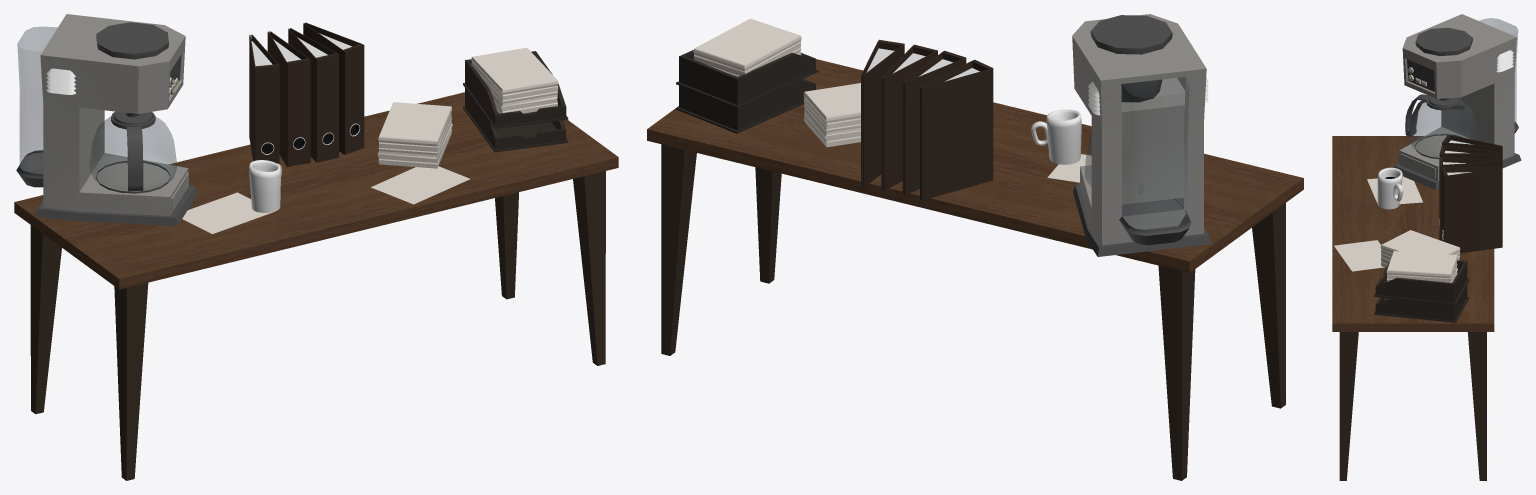
Rendered from coffeeDesk.glb.
3 renders of one model, left to right at view 1: azimuth 30°, elevation 25°; view 2: azimuth 150°, elevation 25°; view 3: azimuth 270°, elevation 25°, orthographic. The views are drawn at different scales.
Visible parts, largest first — view 1: Cube.018_0.001; view 2: Cube.018_0.001; view 3: Cube.018_0.001.
Part boxes in pixels (box(x1,y1,x2,y2)): Cube.018_0.001: box(14, 14, 618, 480); Cube.018_0.001: box(647, 14, 1303, 480); Cube.018_0.001: box(1332, 14, 1521, 480).
Size of the model in its own units: 2.54 by 1.82 by 1.08.
14 materials, 1 textured.
